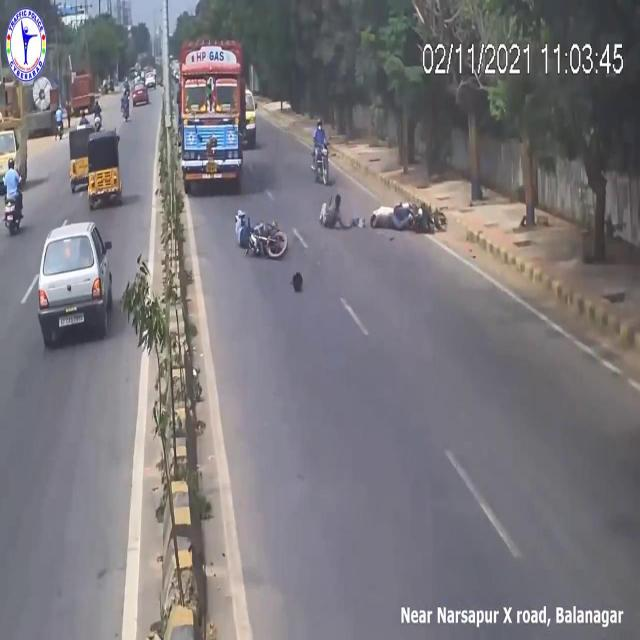accident: (313, 188, 449, 244), (229, 199, 292, 269)
non_accident: (178, 42, 258, 194), (58, 105, 128, 227), (128, 42, 164, 117)
